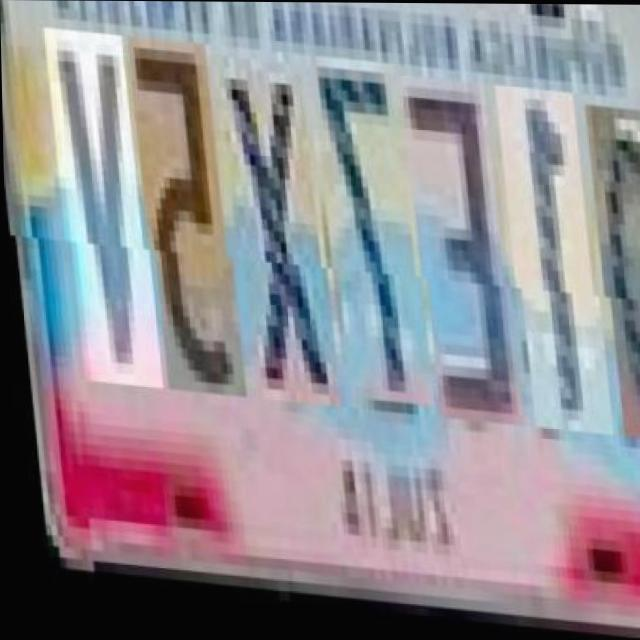1: (492, 87, 597, 437)
5: (125, 47, 232, 405)
7: (308, 62, 419, 411)
e: (397, 80, 508, 430)
o: (583, 104, 640, 442)
v: (41, 41, 147, 399)
x: (215, 65, 326, 414)
